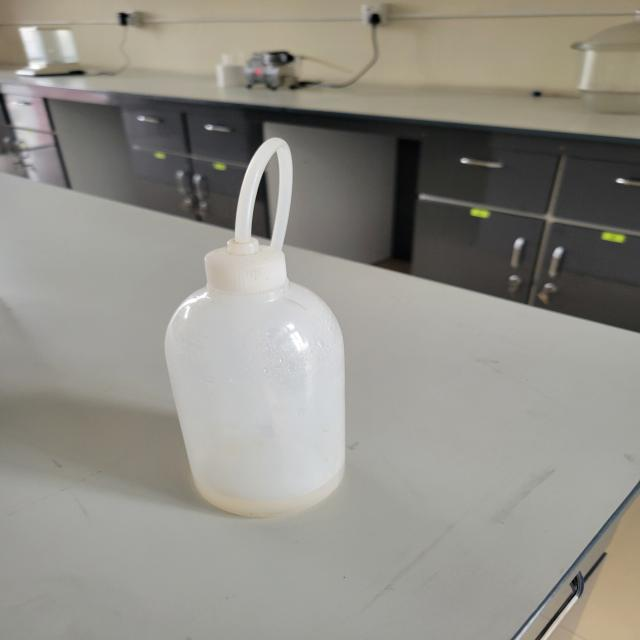Wash_Bottle: (106, 108, 406, 541)
